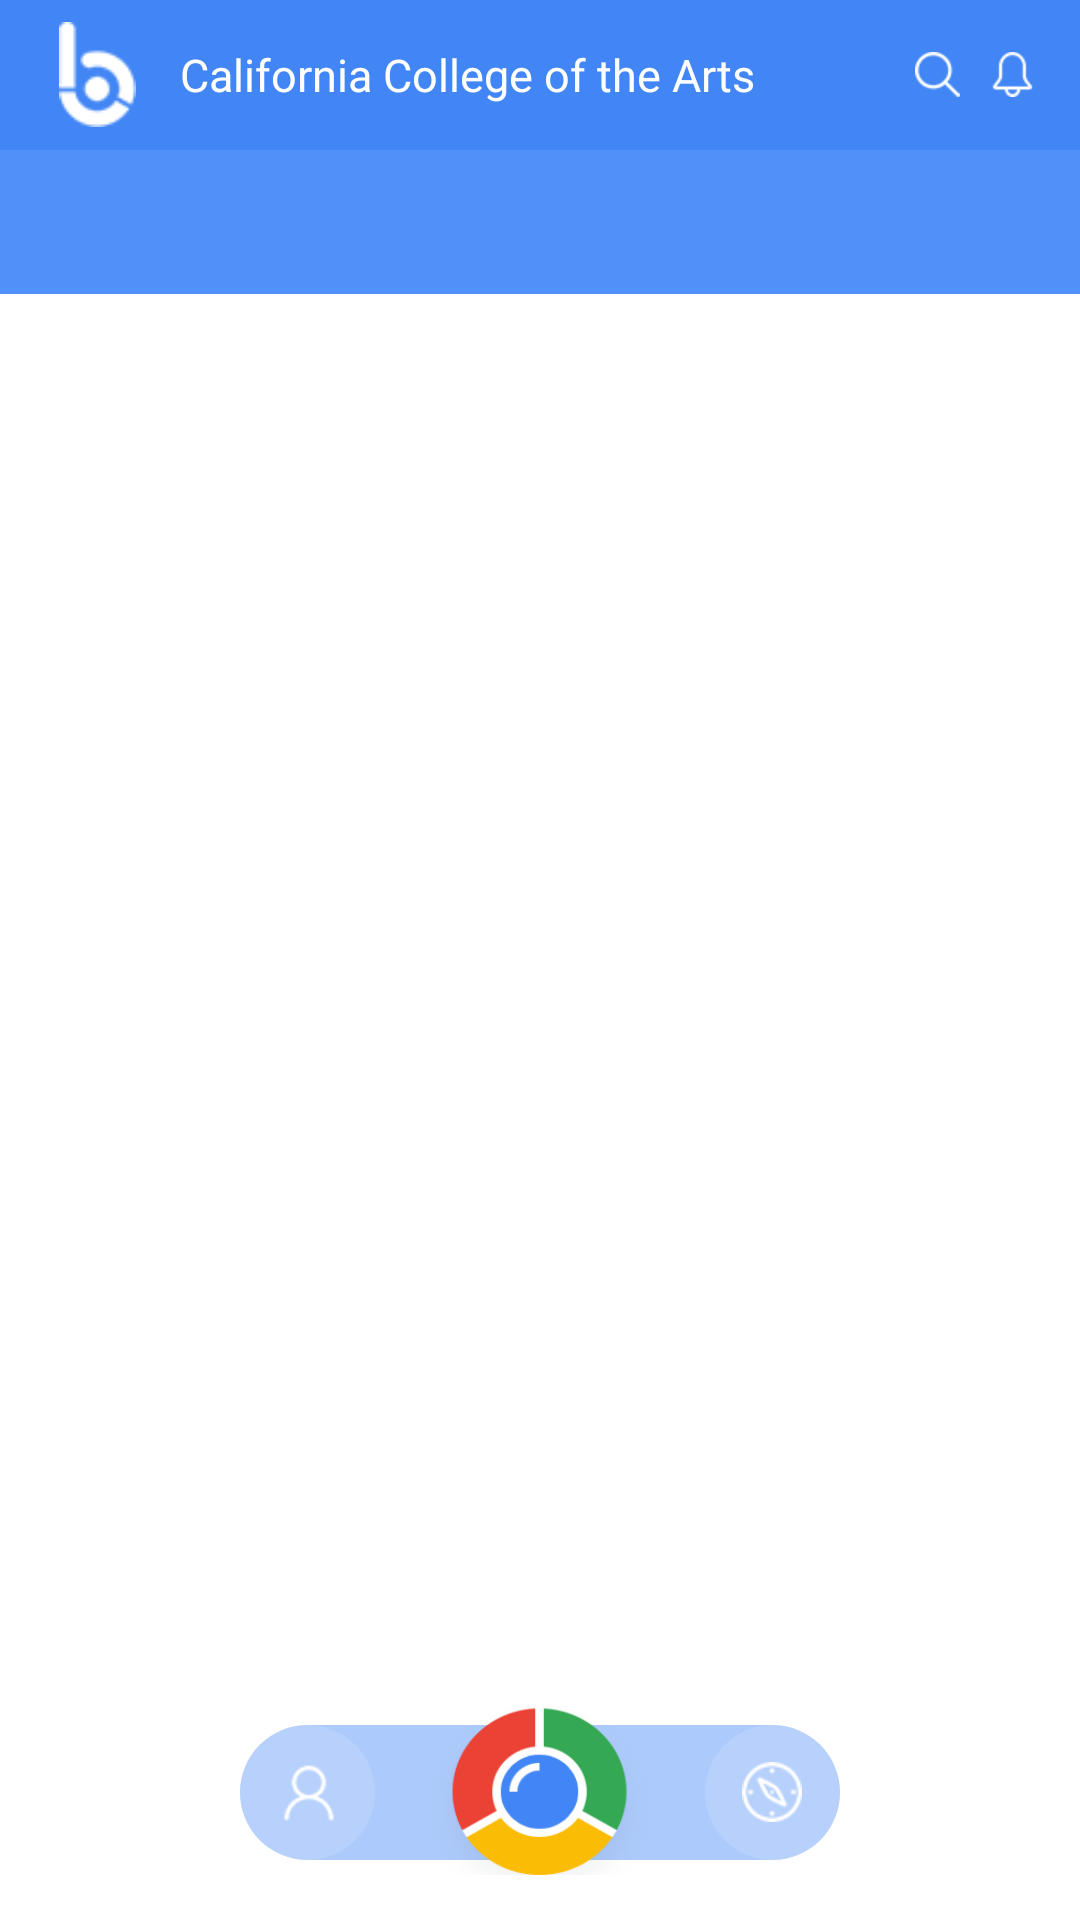

Where to tap for icons on this 1080px x 1920px app screen, as [x,y]:
explore: [772,1792]
notification: [1012,74]
profileicon: [309,1792]
search: [937,74]
